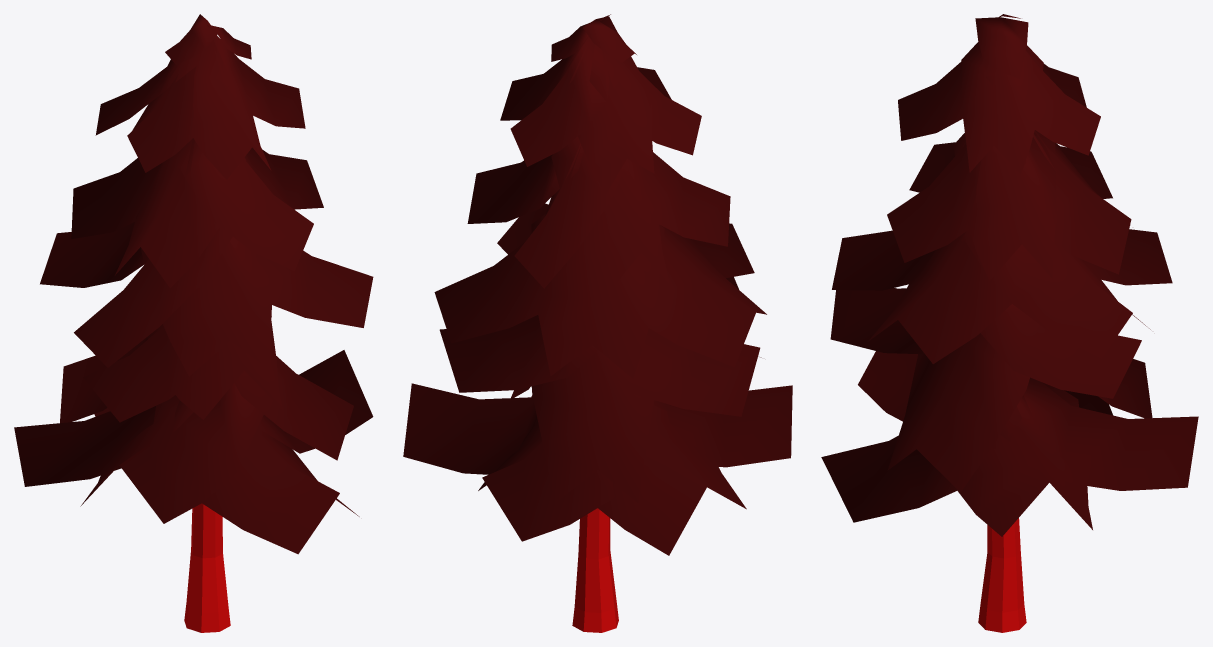
File: SM_Tree_Pine_Small_01.glb
The picture shows the model from 3 angles, left to right: view 1: azimuth 30°, elevation 25°; view 2: azimuth 150°, elevation 25°; view 3: azimuth 270°, elevation 25°; orthographic projection.
Visible parts, largest first — view 1: SM_Tree_Pine_Small_01; view 2: SM_Tree_Pine_Small_01; view 3: SM_Tree_Pine_Small_01.
Part boxes in pixels (x1,y1,x2,y2): SM_Tree_Pine_Small_01: (14, 14, 373, 632); SM_Tree_Pine_Small_01: (403, 14, 792, 632); SM_Tree_Pine_Small_01: (821, 14, 1198, 632).
Bounding box in the file's own units: 2.01 × 3.48 × 1.96.
